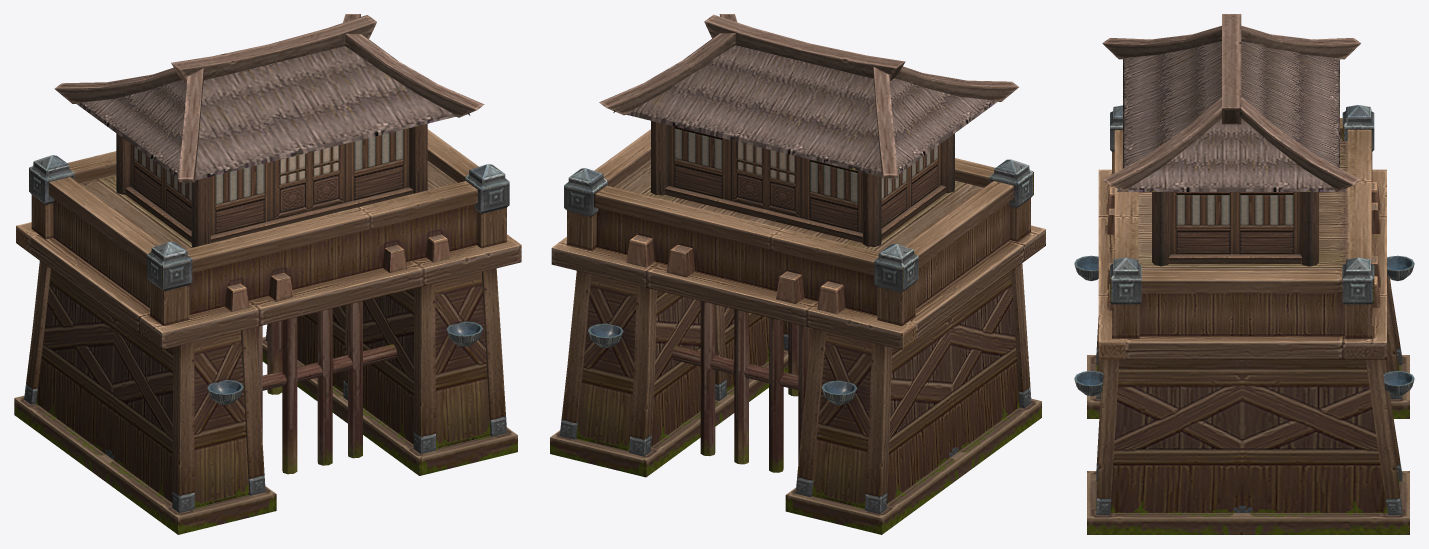
Rendered from ShiJie_ChengQiang_10.FBX.
3 views of the same model, side by side, from view 1: azimuth 30°, elevation 25°; view 2: azimuth 150°, elevation 25°; view 3: azimuth 270°, elevation 25° (orthographic). The views are drawn at different scales.
Visible parts, largest first — view 1: ShiJie_ChengQiang_10; view 2: ShiJie_ChengQiang_10; view 3: ShiJie_ChengQiang_10.
Boxes of the visible parts, left/top/right/bottom form: ShiJie_ChengQiang_10: left=14, top=14, right=521, bottom=534; ShiJie_ChengQiang_10: left=550, top=14, right=1045, bottom=534; ShiJie_ChengQiang_10: left=1074, top=14, right=1414, bottom=534.
Size of the model in its own units: 114 by 120 by 94.53.
